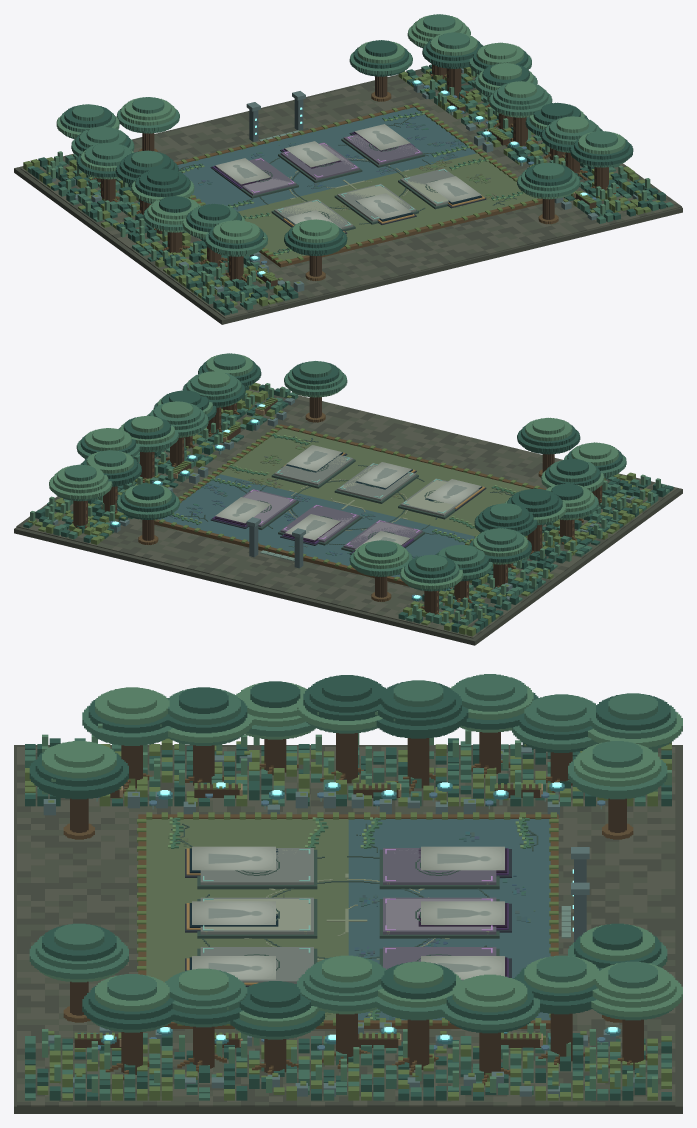
Rendered from forest.glb.
3 views of the same model, one above another, from view 1: azimuth 30°, elevation 25°; view 2: azimuth 150°, elevation 25°; view 3: azimuth 270°, elevation 25° (orthographic). The views are drawn at different scales.
Visible parts, largest first — view 1: 08_Layered_Voxel_Canopies, 01_Ancient_Forest_Floor, Decorated_Halves_With_Six_Grounded_Stone_Bases, 09_Lush_Forest_Sidebanks, 07_Trees_and_Exposed_Roots, 05_Glade_Border_and_Entry, 10_Fallen_Trunks_and_Stones, 12_Forest_Threshold_Stones, Placeholder_Friendly_03_Artwork, Placeholder_Friendly_02_Artwork, Placeholder_Enemy_01_Artwork, Placeholder_Enemy_02_Artwork (+2 smaller); view 2: 08_Layered_Voxel_Canopies, 01_Ancient_Forest_Floor, Decorated_Halves_With_Six_Grounded_Stone_Bases, 09_Lush_Forest_Sidebanks, 07_Trees_and_Exposed_Roots, 05_Glade_Border_and_Entry, 10_Fallen_Trunks_and_Stones, 12_Forest_Threshold_Stones, Placeholder_Friendly_02_Artwork, Placeholder_Friendly_03_Artwork, Placeholder_Friendly_01_Artwork, Placeholder_Enemy_03_Artwork (+2 smaller); view 3: 08_Layered_Voxel_Canopies, 01_Ancient_Forest_Floor, Decorated_Halves_With_Six_Grounded_Stone_Bases, 09_Lush_Forest_Sidebanks, 07_Trees_and_Exposed_Roots, 10_Fallen_Trunks_and_Stones, 05_Glade_Border_and_Entry, 11_Glowing_Mushrooms_and_Lanterns, Placeholder_Friendly_01_Artwork, Placeholder_Enemy_01_Artwork, Placeholder_Friendly_02_Artwork, Placeholder_Enemy_02_Artwork (+3 smaller).
Part boxes in pixels (box(x1,y1,x2,y2)): 08_Layered_Voxel_Canopies: box(56, 14, 633, 256); 01_Ancient_Forest_Floor: box(14, 69, 682, 324); Decorated_Halves_With_Six_Grounded_Stone_Bases: box(177, 107, 538, 260); 09_Lush_Forest_Sidebanks: box(23, 64, 673, 315); 07_Trees_and_Exposed_Roots: box(88, 64, 618, 282); 05_Glade_Border_and_Entry: box(175, 102, 542, 267); 10_Fallen_Trunks_and_Stones: box(48, 68, 640, 292); 12_Forest_Threshold_Stones: box(246, 91, 305, 141); Placeholder_Friendly_03_Artwork: box(426, 176, 481, 202); Placeholder_Friendly_02_Artwork: box(356, 193, 411, 219); Placeholder_Enemy_01_Artwork: box(215, 158, 270, 184); Placeholder_Enemy_02_Artwork: box(285, 141, 340, 167); 08_Layered_Voxel_Canopies: box(49, 353, 626, 591); 01_Ancient_Forest_Floor: box(14, 388, 682, 645); Decorated_Halves_With_Six_Grounded_Stone_Bases: box(158, 428, 531, 578); 09_Lush_Forest_Sidebanks: box(23, 383, 673, 636); 07_Trees_and_Exposed_Roots: box(72, 397, 602, 614); 05_Glade_Border_and_Entry: box(154, 424, 546, 586); 10_Fallen_Trunks_and_Stones: box(53, 395, 634, 623); 12_Forest_Threshold_Stones: box(246, 517, 305, 568); Placeholder_Friendly_02_Artwork: box(356, 462, 411, 488); Placeholder_Friendly_03_Artwork: box(286, 445, 341, 471); Placeholder_Friendly_01_Artwork: box(426, 479, 481, 505); Placeholder_Enemy_03_Artwork: box(215, 497, 270, 523); 08_Layered_Voxel_Canopies: box(29, 674, 682, 1039); 01_Ancient_Forest_Floor: box(14, 745, 682, 1113); Decorated_Halves_With_Six_Grounded_Stone_Bases: box(146, 817, 550, 1020); 09_Lush_Forest_Sidebanks: box(25, 729, 671, 1100); 07_Trees_and_Exposed_Roots: box(63, 732, 647, 1085); 10_Fallen_Trunks_and_Stones: box(43, 744, 642, 1096); 05_Glade_Border_and_Entry: box(137, 812, 558, 1028); 11_Glowing_Mushrooms_and_Lanterns: box(96, 782, 620, 1053); Placeholder_Friendly_01_Artwork: box(192, 846, 275, 870); Placeholder_Enemy_01_Artwork: box(421, 846, 504, 870); Placeholder_Friendly_02_Artwork: box(192, 901, 275, 924); Placeholder_Enemy_02_Artwork: box(421, 901, 504, 924).
Size of the model in its own units: 22 by 2.88 by 17.2.
Materials: 24 (1 with a texture image).
